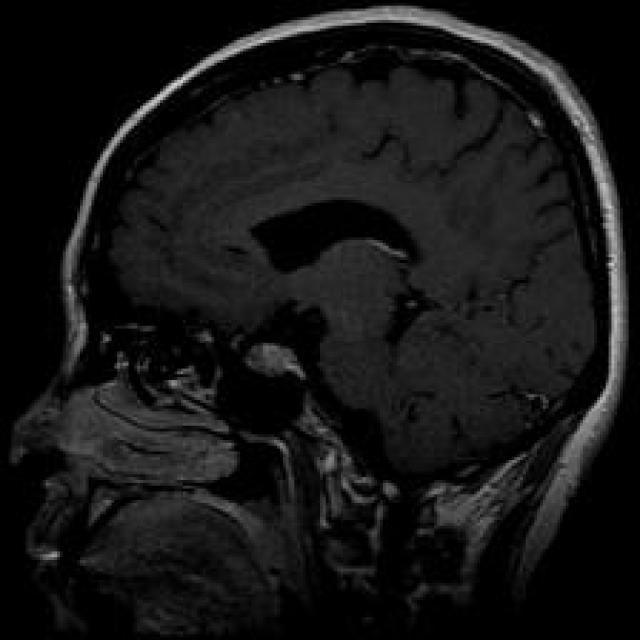pituitary_tumor: (224, 307, 330, 405)
